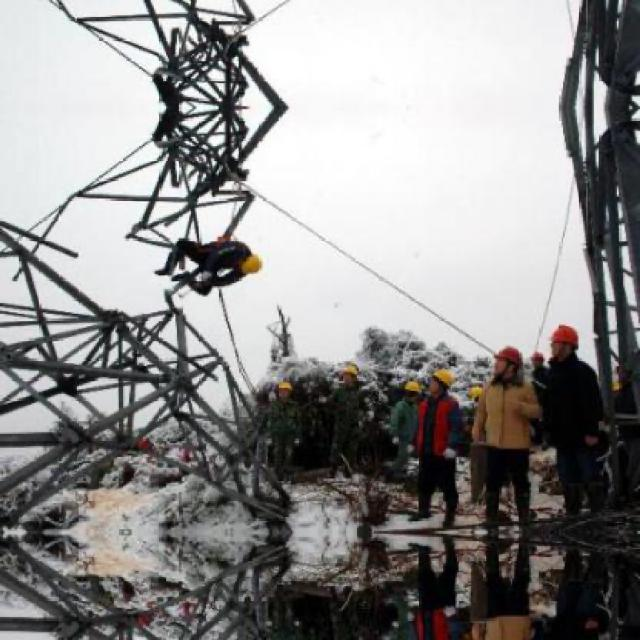helmet: (489, 343, 526, 383), (550, 322, 578, 358), (428, 366, 458, 397), (232, 249, 262, 274), (403, 376, 423, 402), (340, 363, 357, 385), (278, 377, 292, 398)
